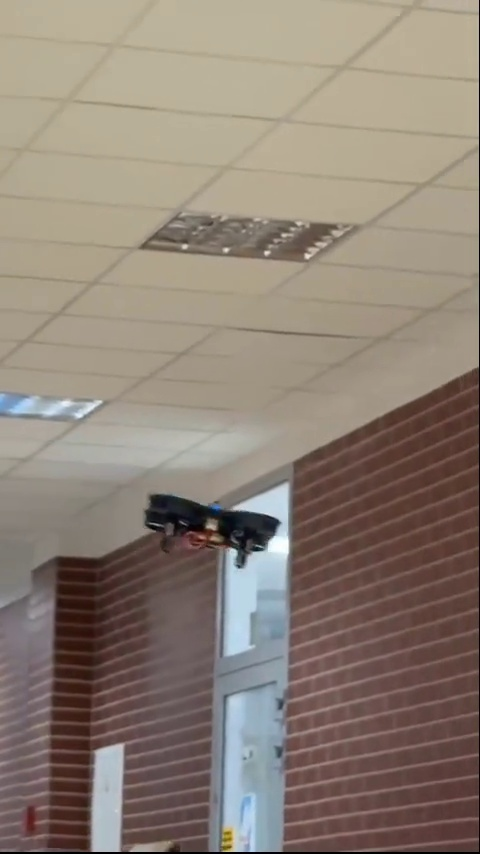drone: (144, 491, 274, 566)
